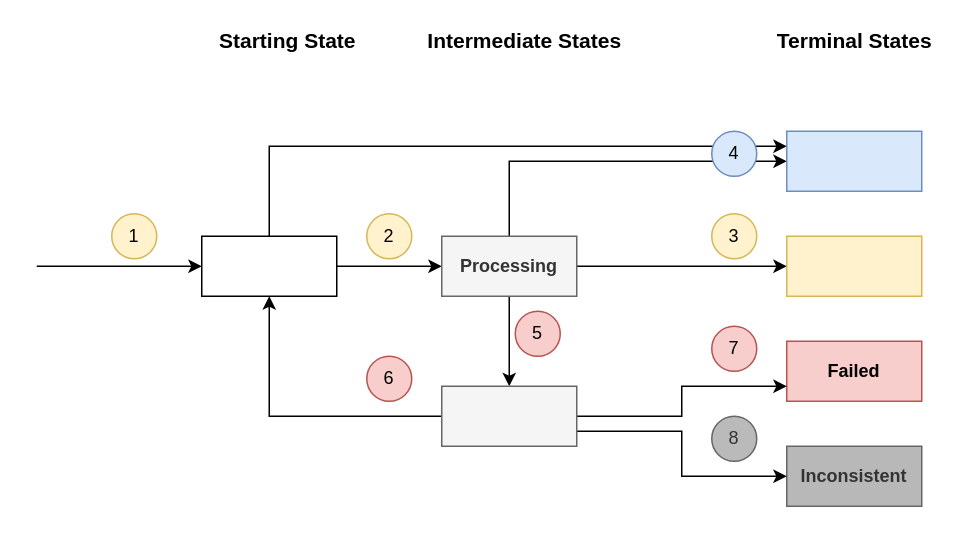
This 972x533 diagram has some shape labels left out. Each missing label, with the centre of its shape:
"Cancelled" goes at point 853,160.
"Finished" goes at point 853,265.
"Pending" goes at point 268,265.
"Retrying" goes at point 508,415.
